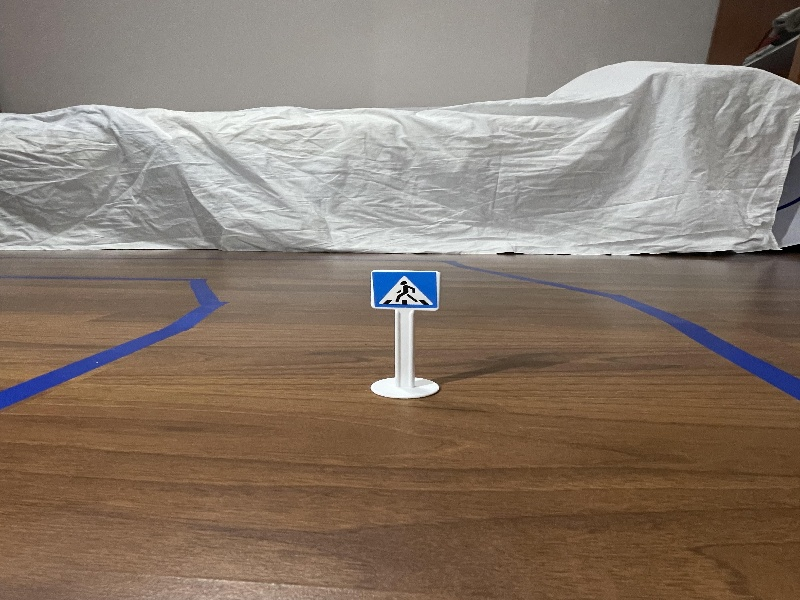trecere_pietoni: (363, 264, 448, 317)
